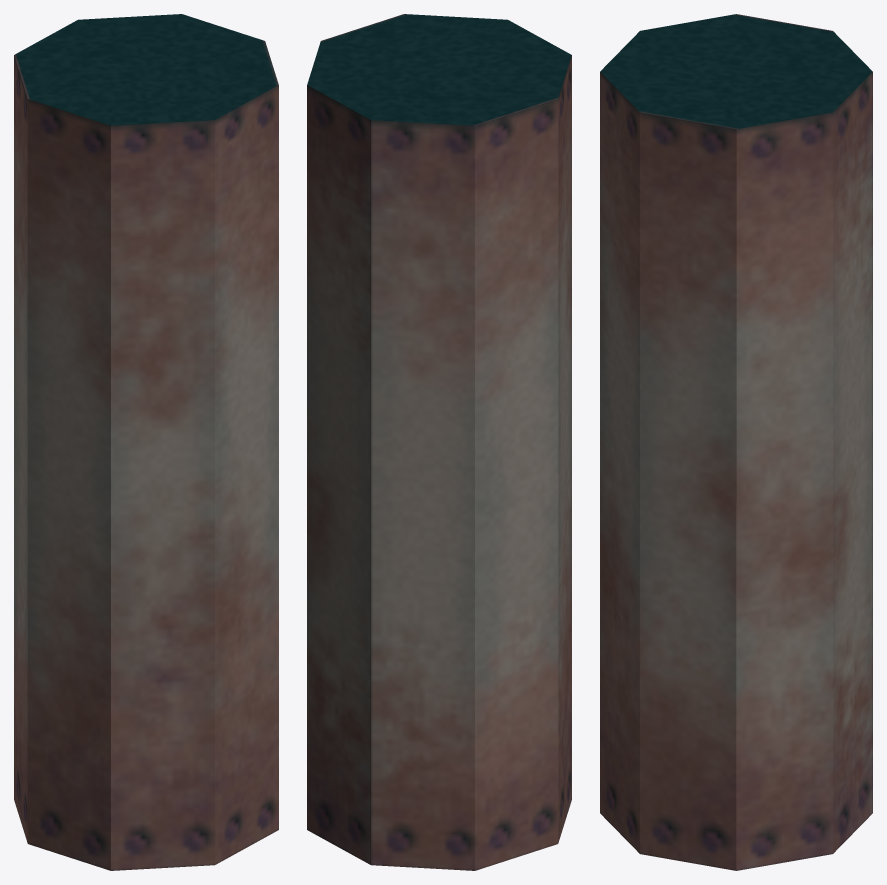
Rendered from Pipe.fbx.
3 views of the same model, side by side, from view 1: azimuth 30°, elevation 25°; view 2: azimuth 150°, elevation 25°; view 3: azimuth 270°, elevation 25° (orthographic).
Parts seen in each view (by area): view 1: Cylinder; view 2: Cylinder; view 3: Cylinder.
Boxes of the visible parts, x1,y1,x2,y2 form: Cylinder: (14, 14, 278, 870); Cylinder: (307, 14, 571, 870); Cylinder: (600, 14, 872, 870).
Bounding box in the file's own units: 100 × 300 × 100.
1 material, 1 textured.
